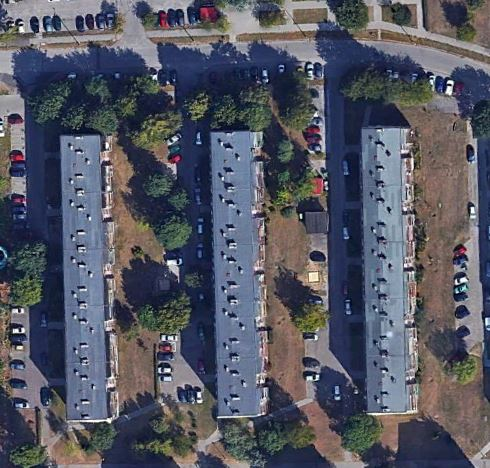block of flats: (205, 126, 274, 420), (359, 120, 423, 420), (58, 129, 119, 427)
